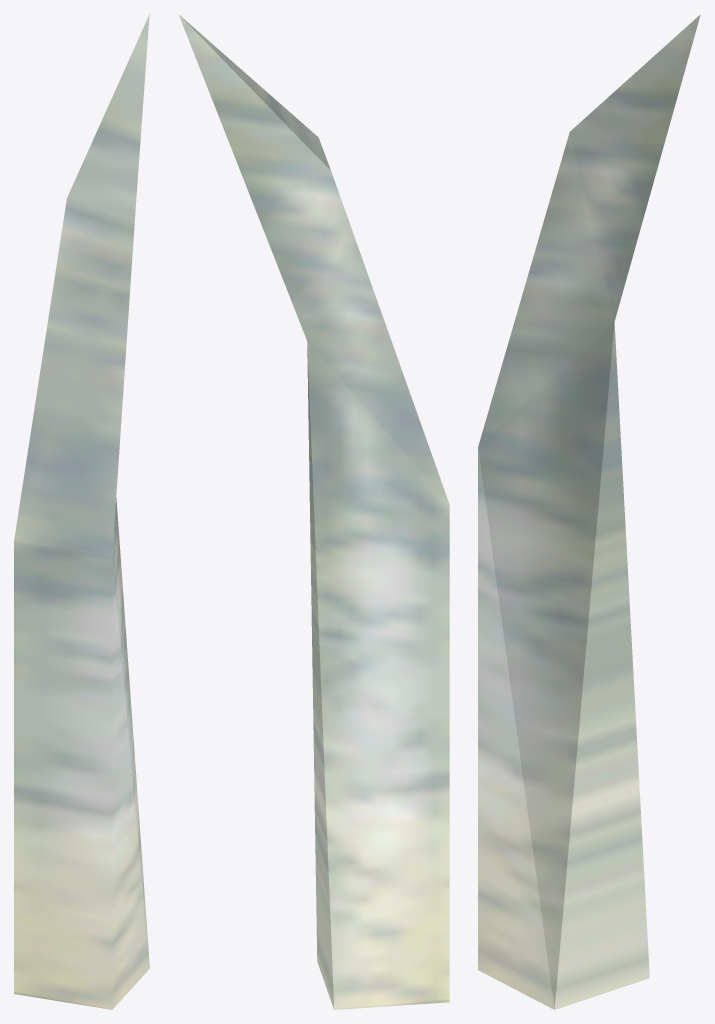
Rendered from rib19.glb.
3 views of the same model, side by side, from view 1: azimuth 30°, elevation 25°; view 2: azimuth 150°, elevation 25°; view 3: azimuth 270°, elevation 25° (orthographic). The views are drawn at different scales.
Parts seen in each view (by area): view 1: rib19; view 2: rib19; view 3: rib19.
Boxes of the visible parts, box(x1,y1,x2,y2) form: rib19: box(14, 14, 149, 1009); rib19: box(178, 14, 449, 1009); rib19: box(478, 14, 700, 1009).
Size of the model in its own units: 533 by 2379 by 465.
Materials: 1 (1 with a texture image).
